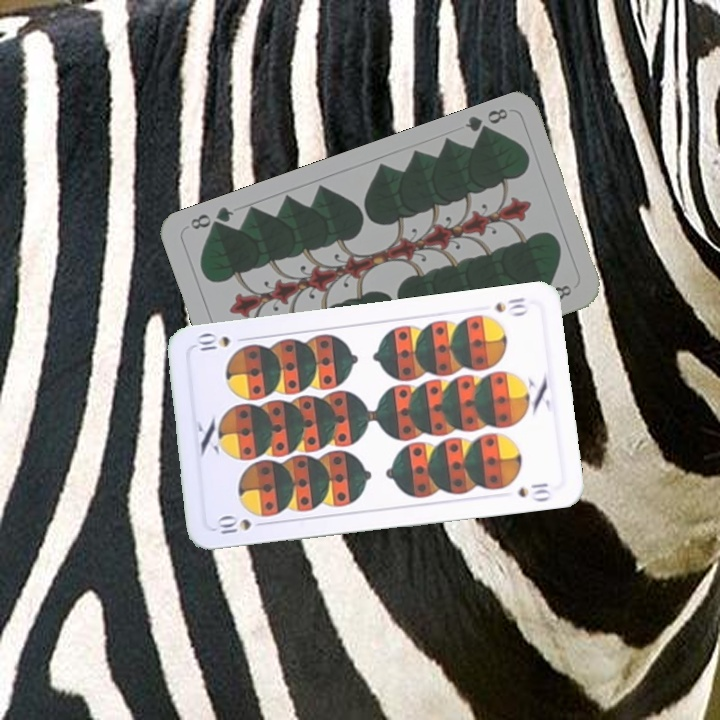G8: (461, 104, 511, 140)
S10: (211, 513, 270, 537), (491, 293, 531, 318)
